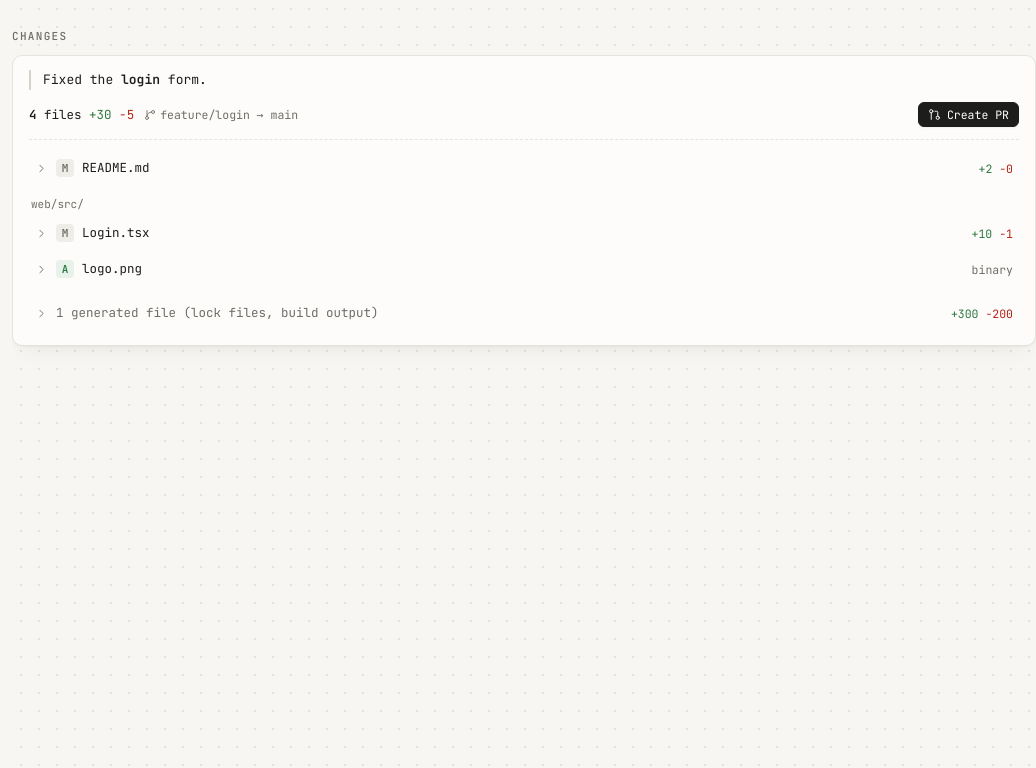
it: Changes › groups the files by folder and folds the generated ones
Expected: the text "Login.tsx" is shown, [82,224,150,241]
Expected: the button "M README.md +2 −0" is shown, [29,150,1019,186]
Click the button "1 generated file (lock files, build output) +300 −200".
click(120, 313)  # box [29,296,1019,332]
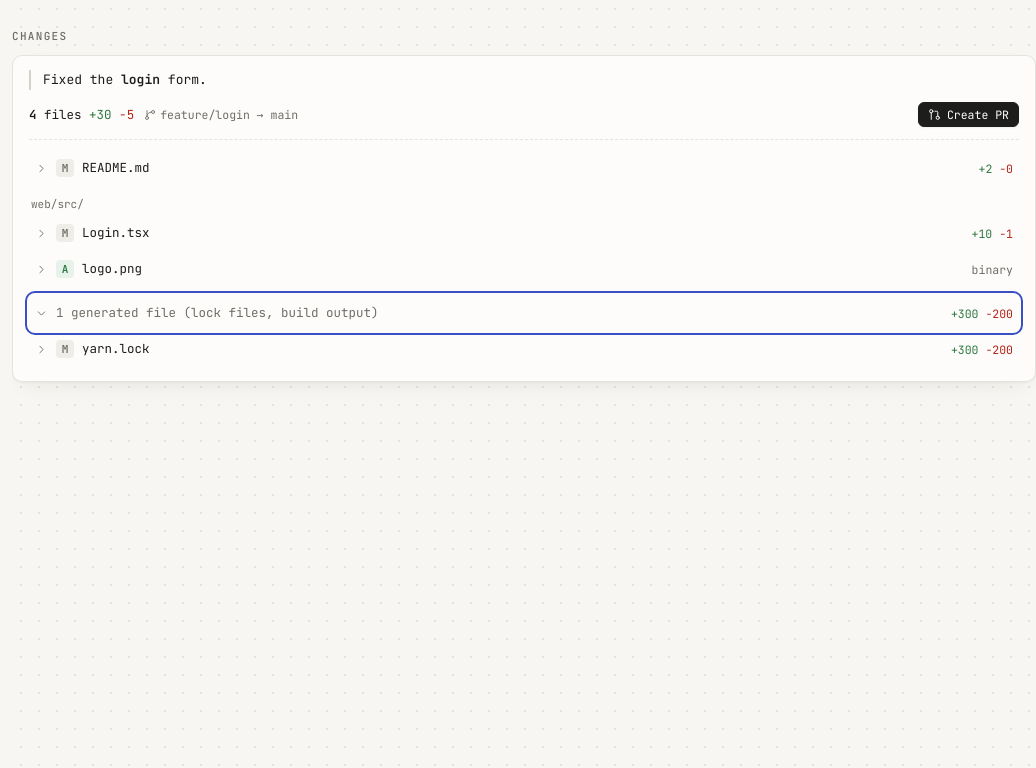
Now the text "yarn.lock" is shown, box [82,340,150,357]
